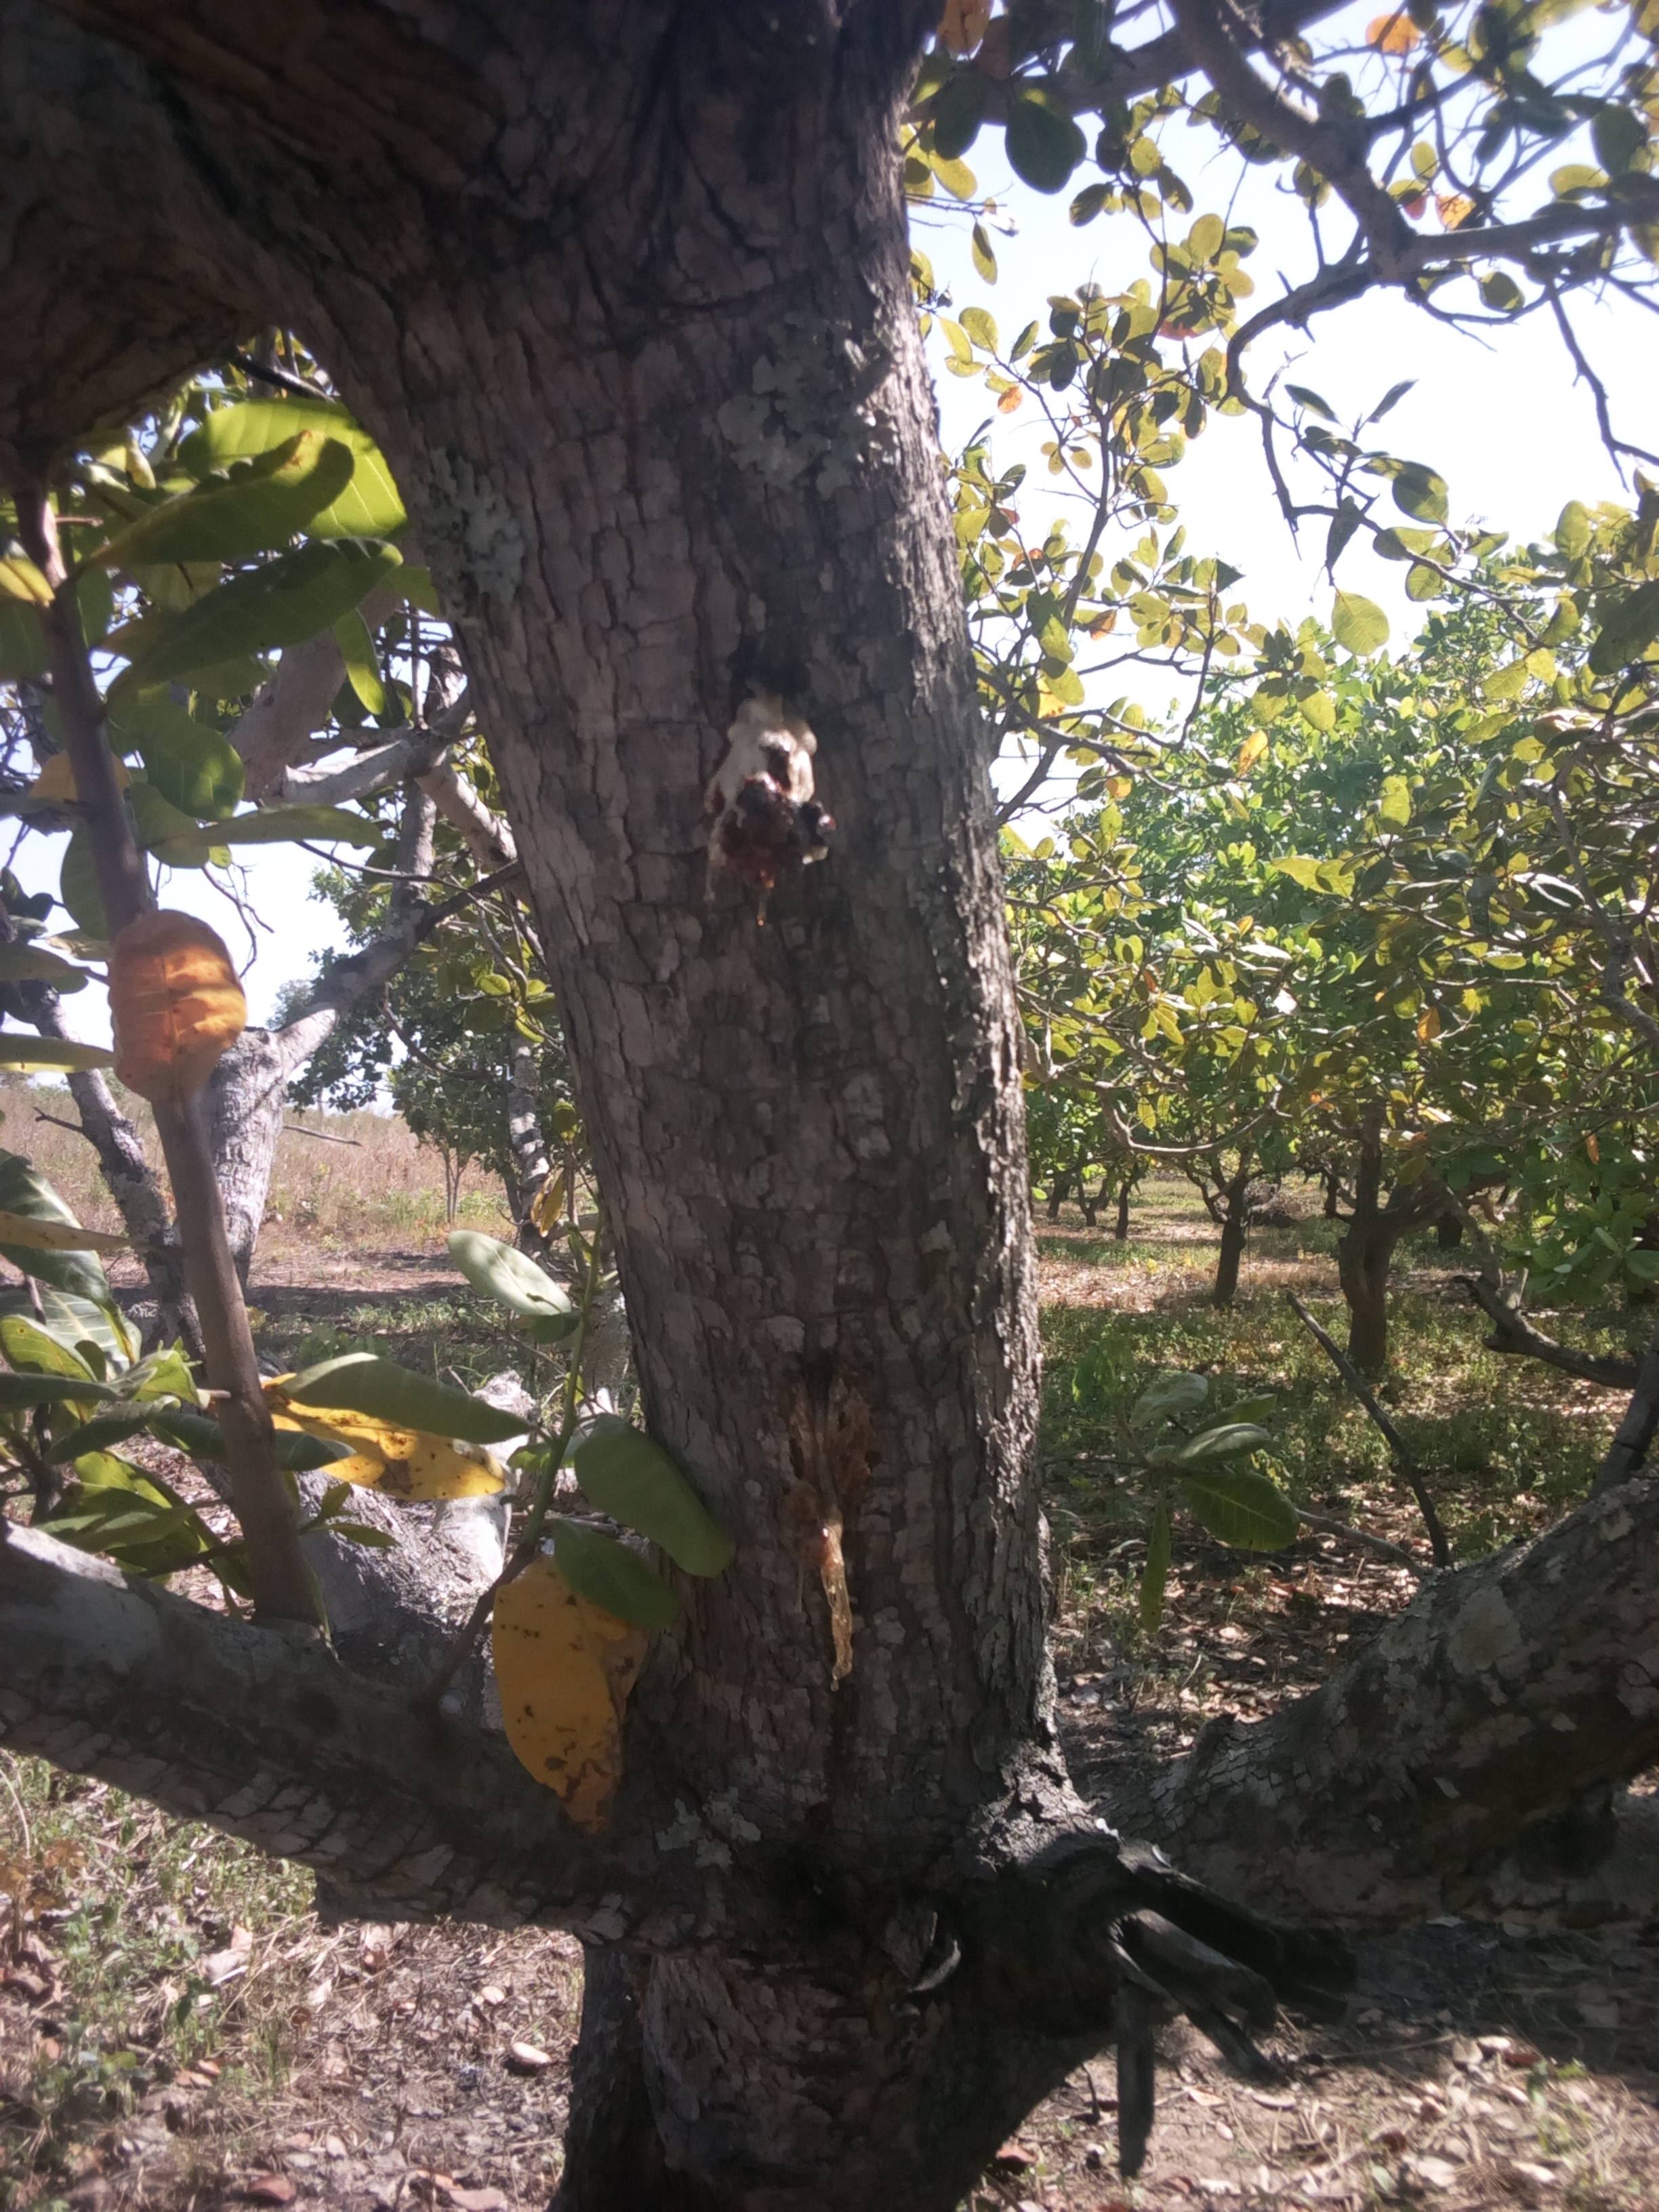Apate terebrans: (636, 662, 1046, 1012)
